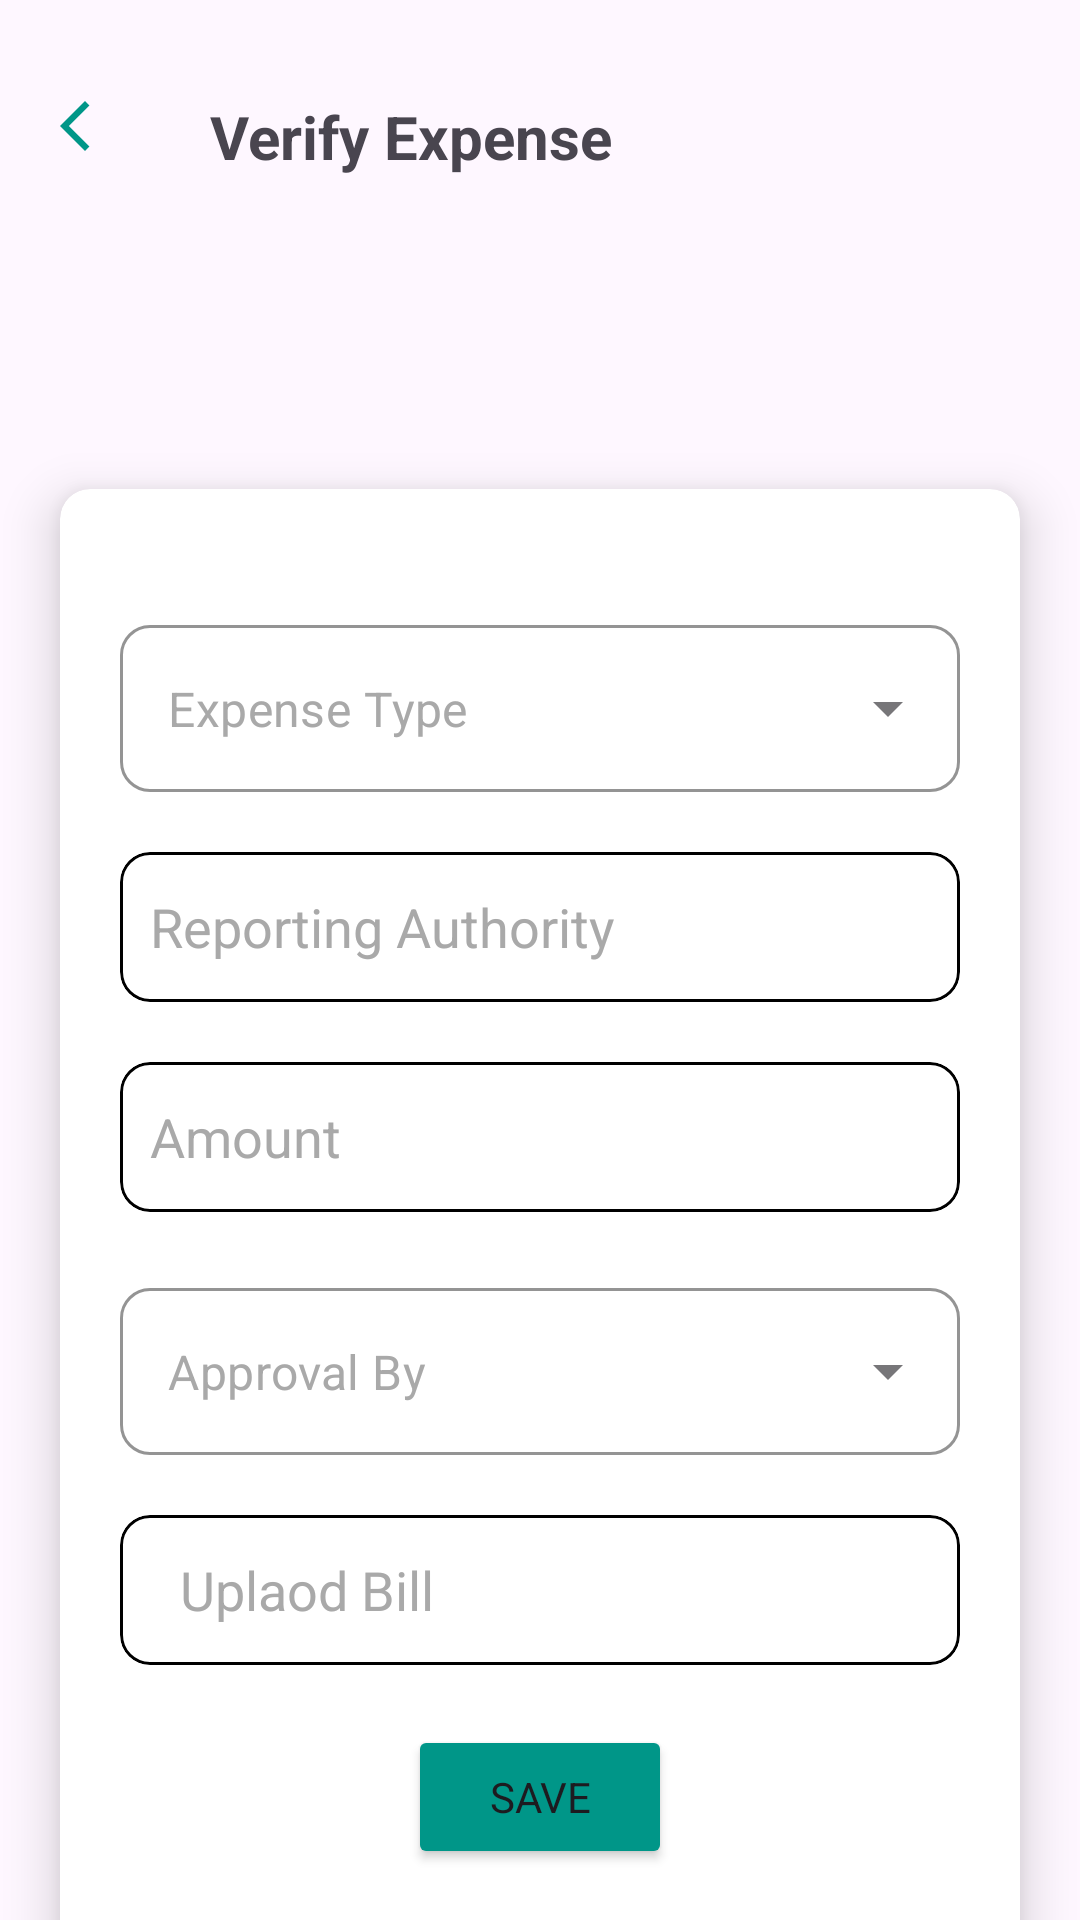

Named icons in this screenshot (1080x1920) and their centers, (x=x, y=y):
back: (x=75, y=126)
